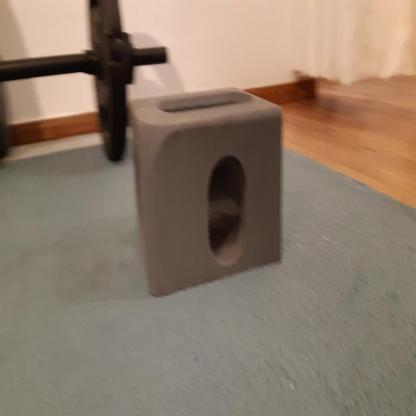CornerCasting: (129, 84, 285, 306)
